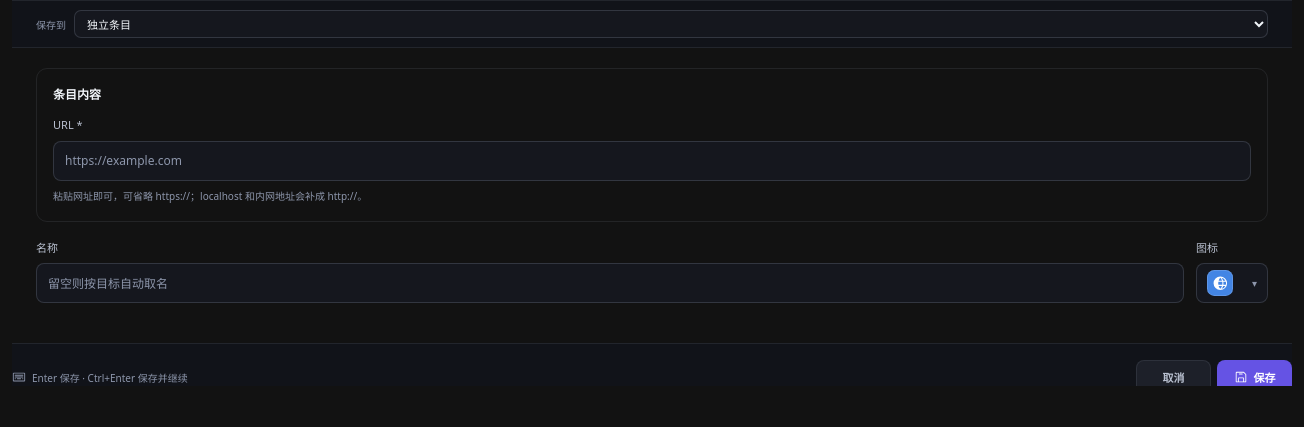
Test: ItemForm › keeps an invalid website in the form and explains the problem
Type "Invalid" into the field with test id "item-name-input".
click(610, 283); type("Invalid")  # box [36,263,1184,303]
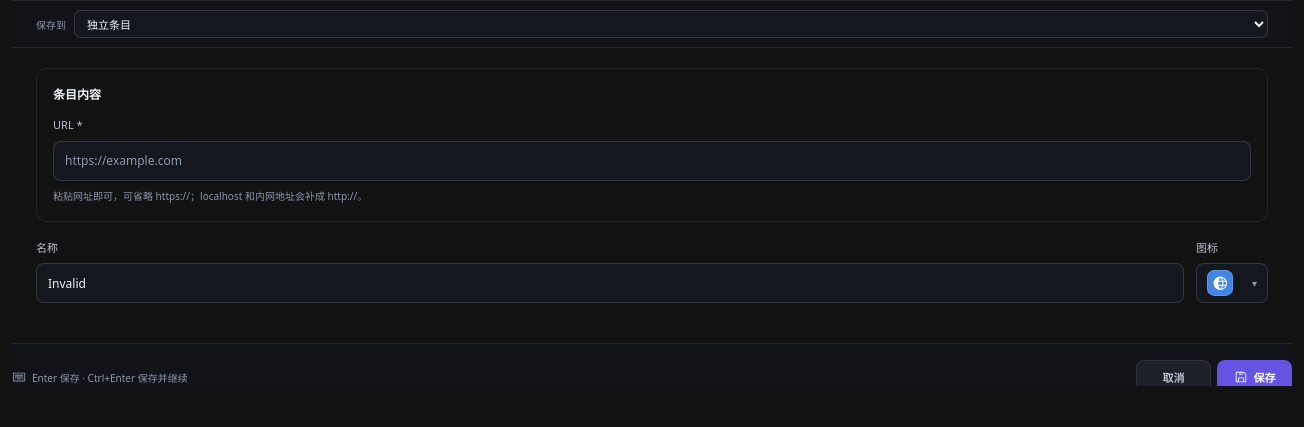
Type "file:///C:/test" into the field with test id "item-url-input".
click(652, 160); type("file:///C:/test")  # box [53,140,1251,180]
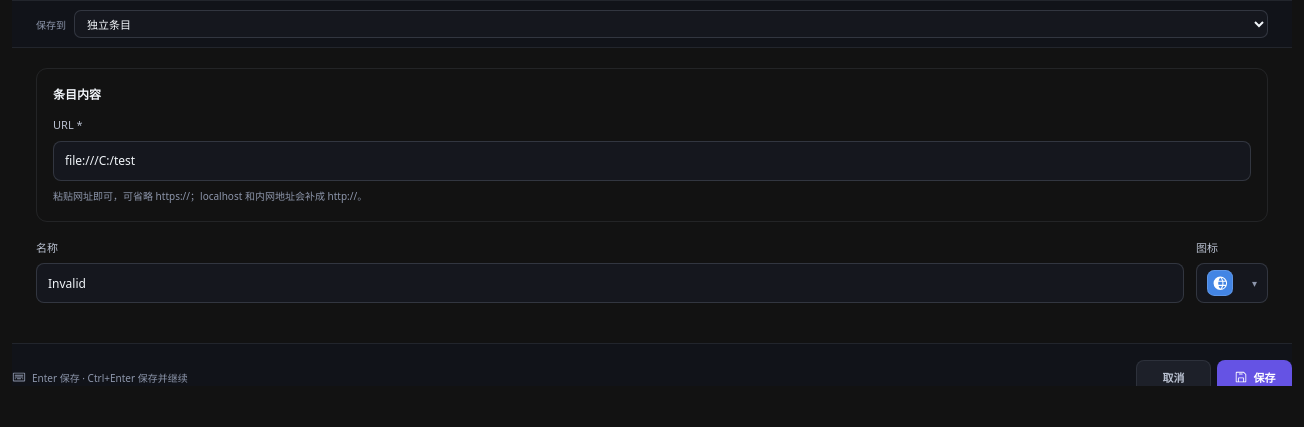
Click the button with test id "item-save".
click(1254, 377)  # box [1217,360,1292,394]
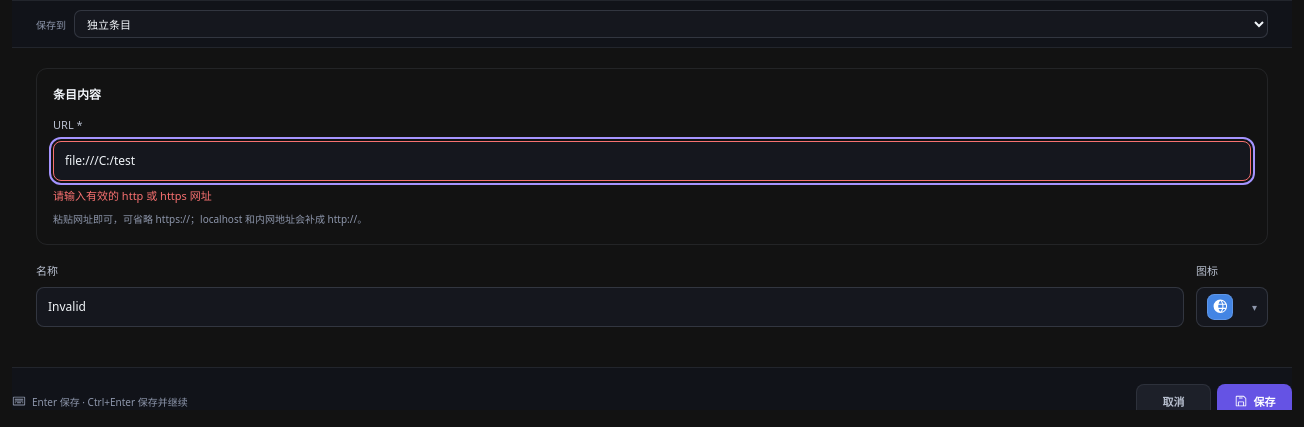
Expected: the message shows "http", [53,188,212,202]
